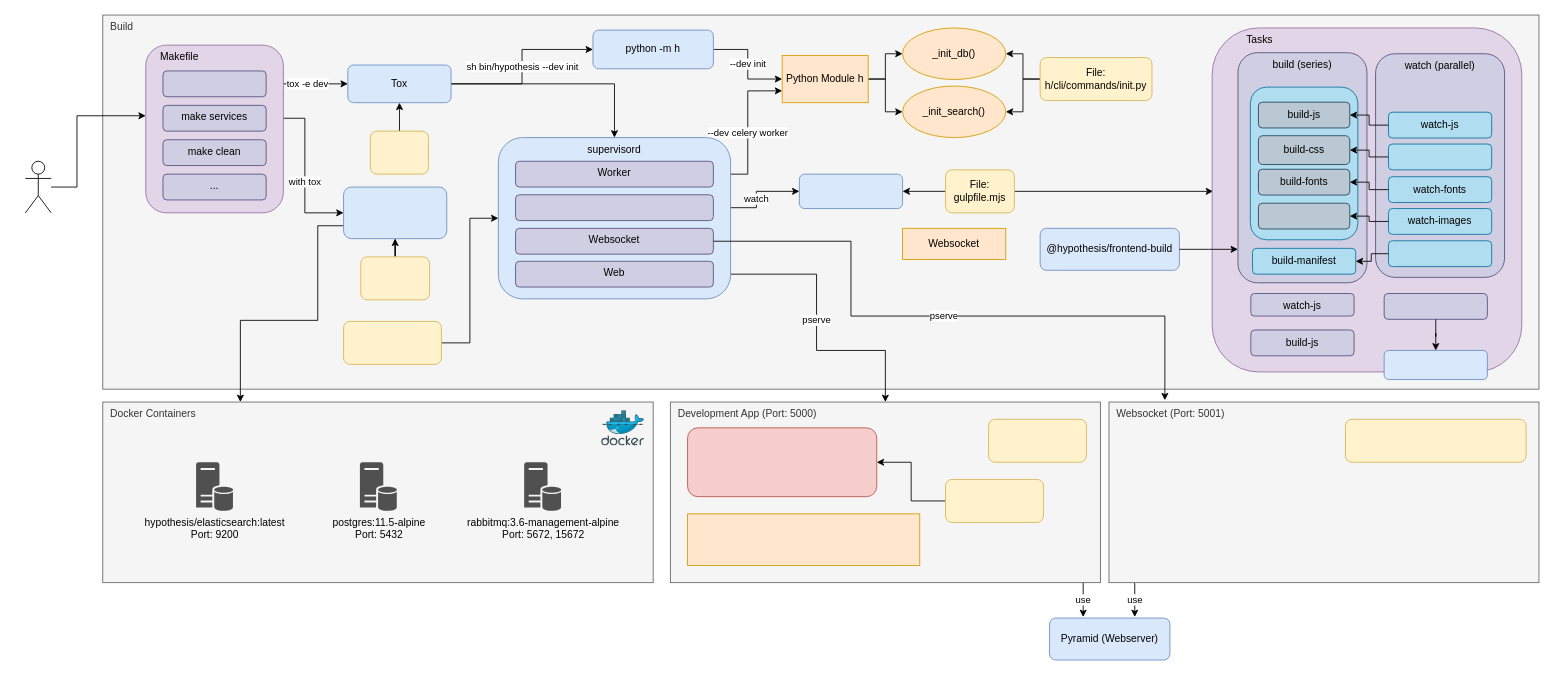
This 1554x675 diagram has some shape labels left out. Here are the shapes that lost their labels. From the top down, the centre of each, then its label:
At (x=214, y=83): "make dev".
At (x=399, y=152): "File: tox.ini".
At (x=1440, y=156): "watch-css".
At (x=38, y=186): "Developer".
At (x=851, y=191): "GulpJS".
At (x=395, y=212): "Docker Compose".
At (x=614, y=207): "Assets".
At (x=1304, y=215): "build-images".
At (x=1440, y=253): "watch-manifest".
At (x=395, y=278): "File: docker-compose.yml".
At (x=1435, y=306): "test".
At (x=392, y=342): "File: conf/supervisord-dev.conf".
At (x=1435, y=365): "KARMA".
At (x=1037, y=440): "File: conf/develoment-app.ini".
At (x=1435, y=440): "File: ./h/streamer/conf/websocket-dev.ini".
At (x=782, y=462): "Client http://localhost:5000/embed.js Load Hypothesis Client Url".
At (x=994, y=500): "File: ./h/views/client.py".
At (x=803, y=539): "export CLIENT_OAUTH_ID export CLIENT_URL export WEBSOCKET_URL".
